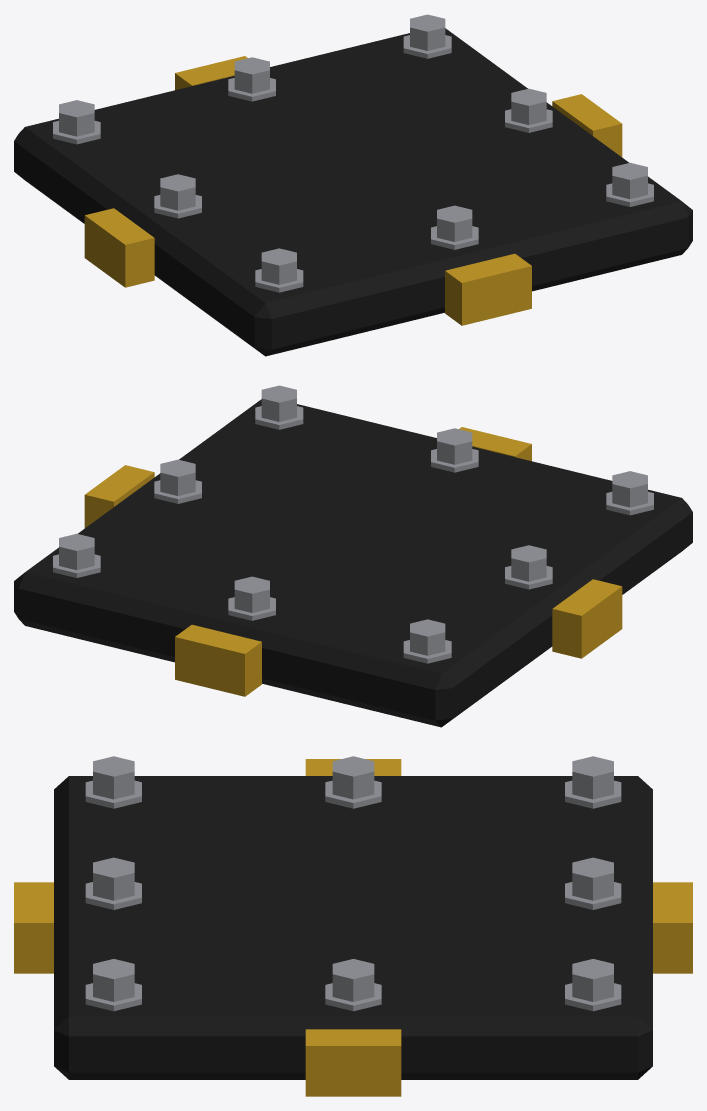
Rendered from dr5_flange.obj.
3 renders of one model, top to bottom at view 1: azimuth 30°, elevation 25°; view 2: azimuth 150°, elevation 25°; view 3: azimuth 270°, elevation 25°, orthographic. The views are drawn at different scales.
Parts seen in each view (by area): view 1: dr5_flange; view 2: dr5_flange; view 3: dr5_flange.
Part boxes in pixels (x1=…): dr5_flange: x1=14, y1=14, x2=692, y2=356; dr5_flange: x1=14, y1=385, x2=692, y2=727; dr5_flange: x1=14, y1=756, x2=692, y2=1096.
Bounding box in the file's own units: 1.36 × 0.203 × 1.36.
